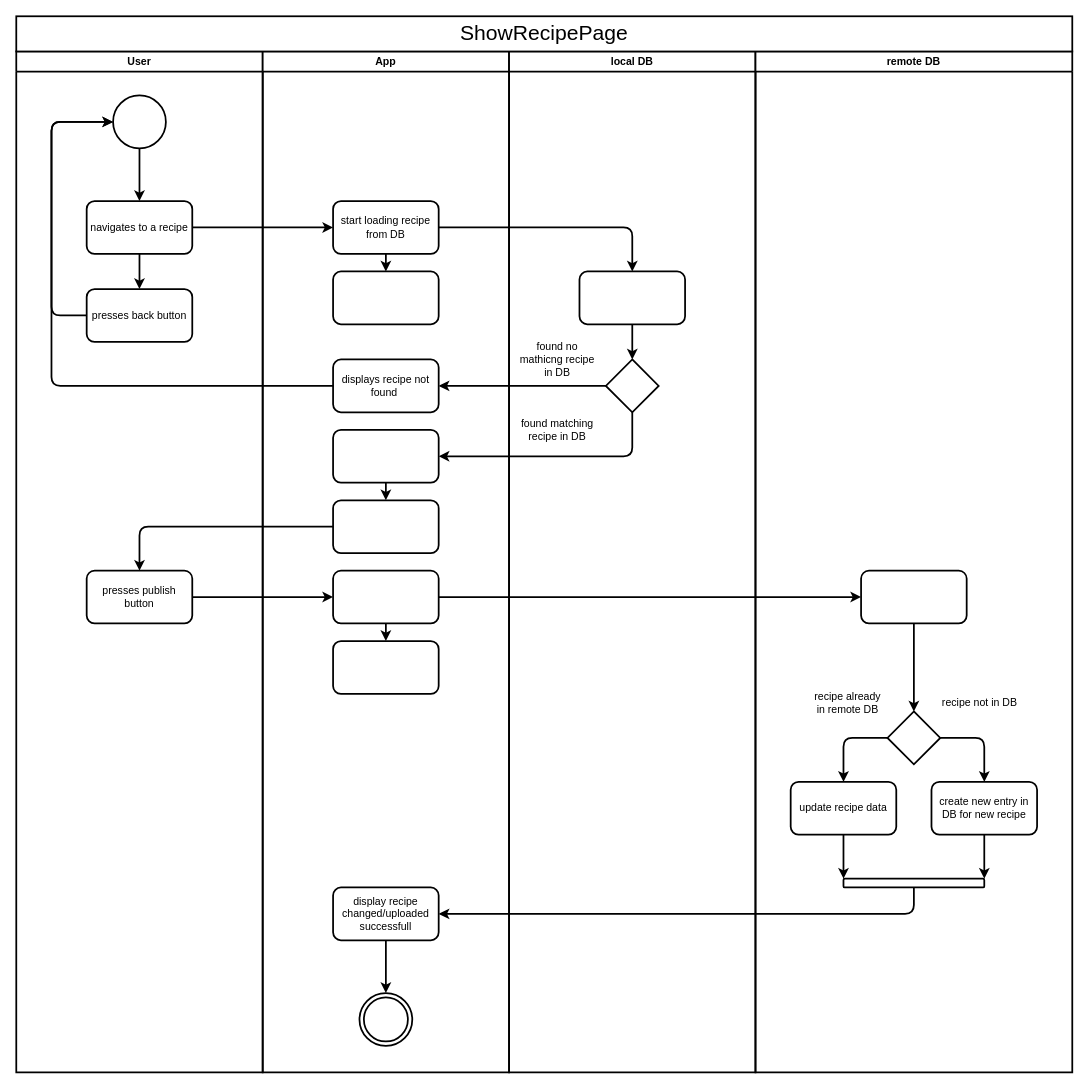
Some shapes in this 1088 by 1088 pixel diagram are drawn without their labels. The centre of each missing label's shape, as x and y in pixels:
check if recipe is already in remote DB: (913,596)
display recipe preview: (385,526)
display started loading recipe: (385,297)
display upload started page: (385,667)
recieved recipe data from DB: (385,456)
recieves request to load recipe: (632,297)
start uploading recipe to remote DB: (385,596)
